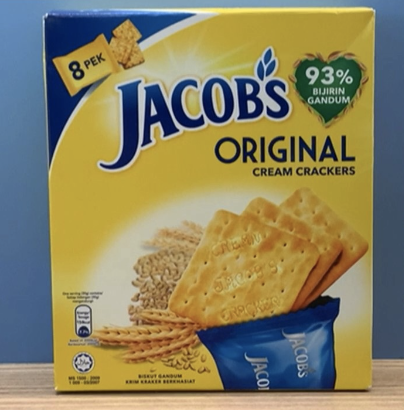crackers_200g-299g: (62, 24, 362, 384)
